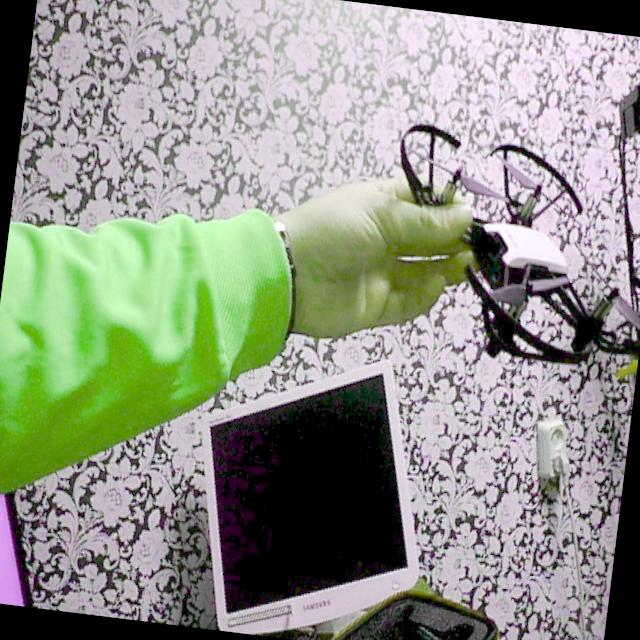drone: (363, 89, 640, 391)
